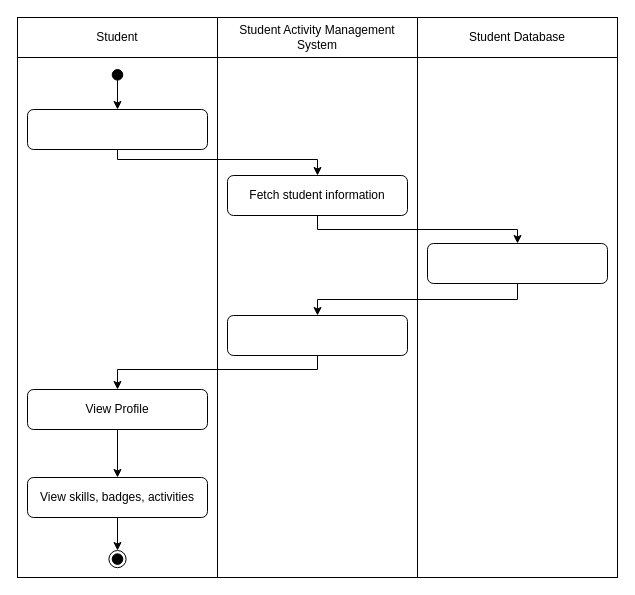
This 635x595 diagram has some shape labels left out. Here are the shapes that lost their labels. From the top down, the centre of each, then its label:
pixel 117 129: Student presses the profile icon
pixel 517 263: Retrieve student information based on ID
pixel 317 335: Display student profile
